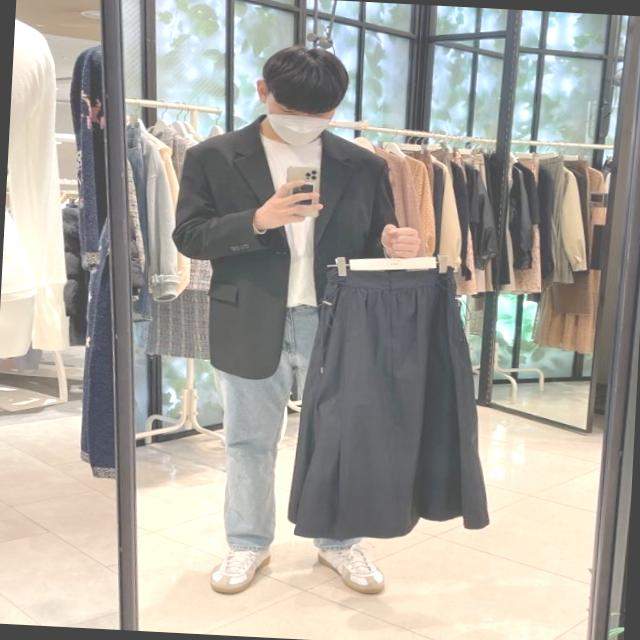blazer: (164, 104, 410, 390)
denimpants: (212, 300, 372, 558)
skirt: (282, 258, 504, 547)
